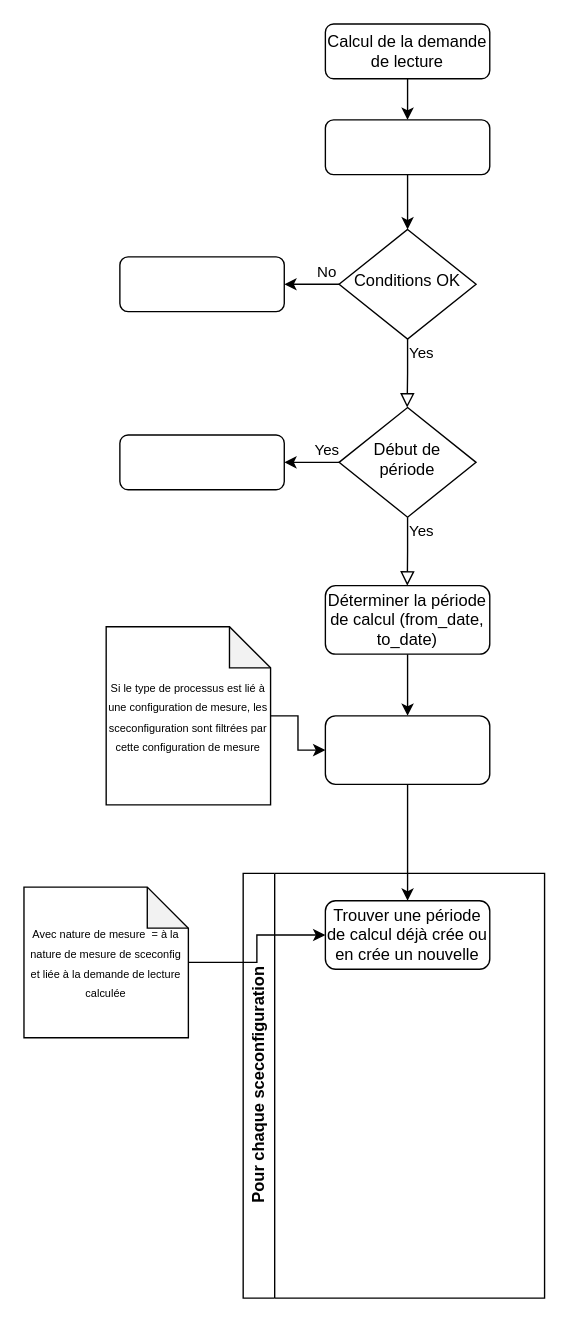
This 569x1322 diagram has some shape labels left out. The centre of each missing label's shape, as x and y in pixels:
"state=CLOSED" belongs at (x=201, y=462).
"Stop (avec message d'erreur)" belongs at (x=201, y=284).
"Trouver toutes les sceconfiguration" belongs at (x=407, y=749).
"Vérification des conditions de calcul" belongs at (x=407, y=147).
